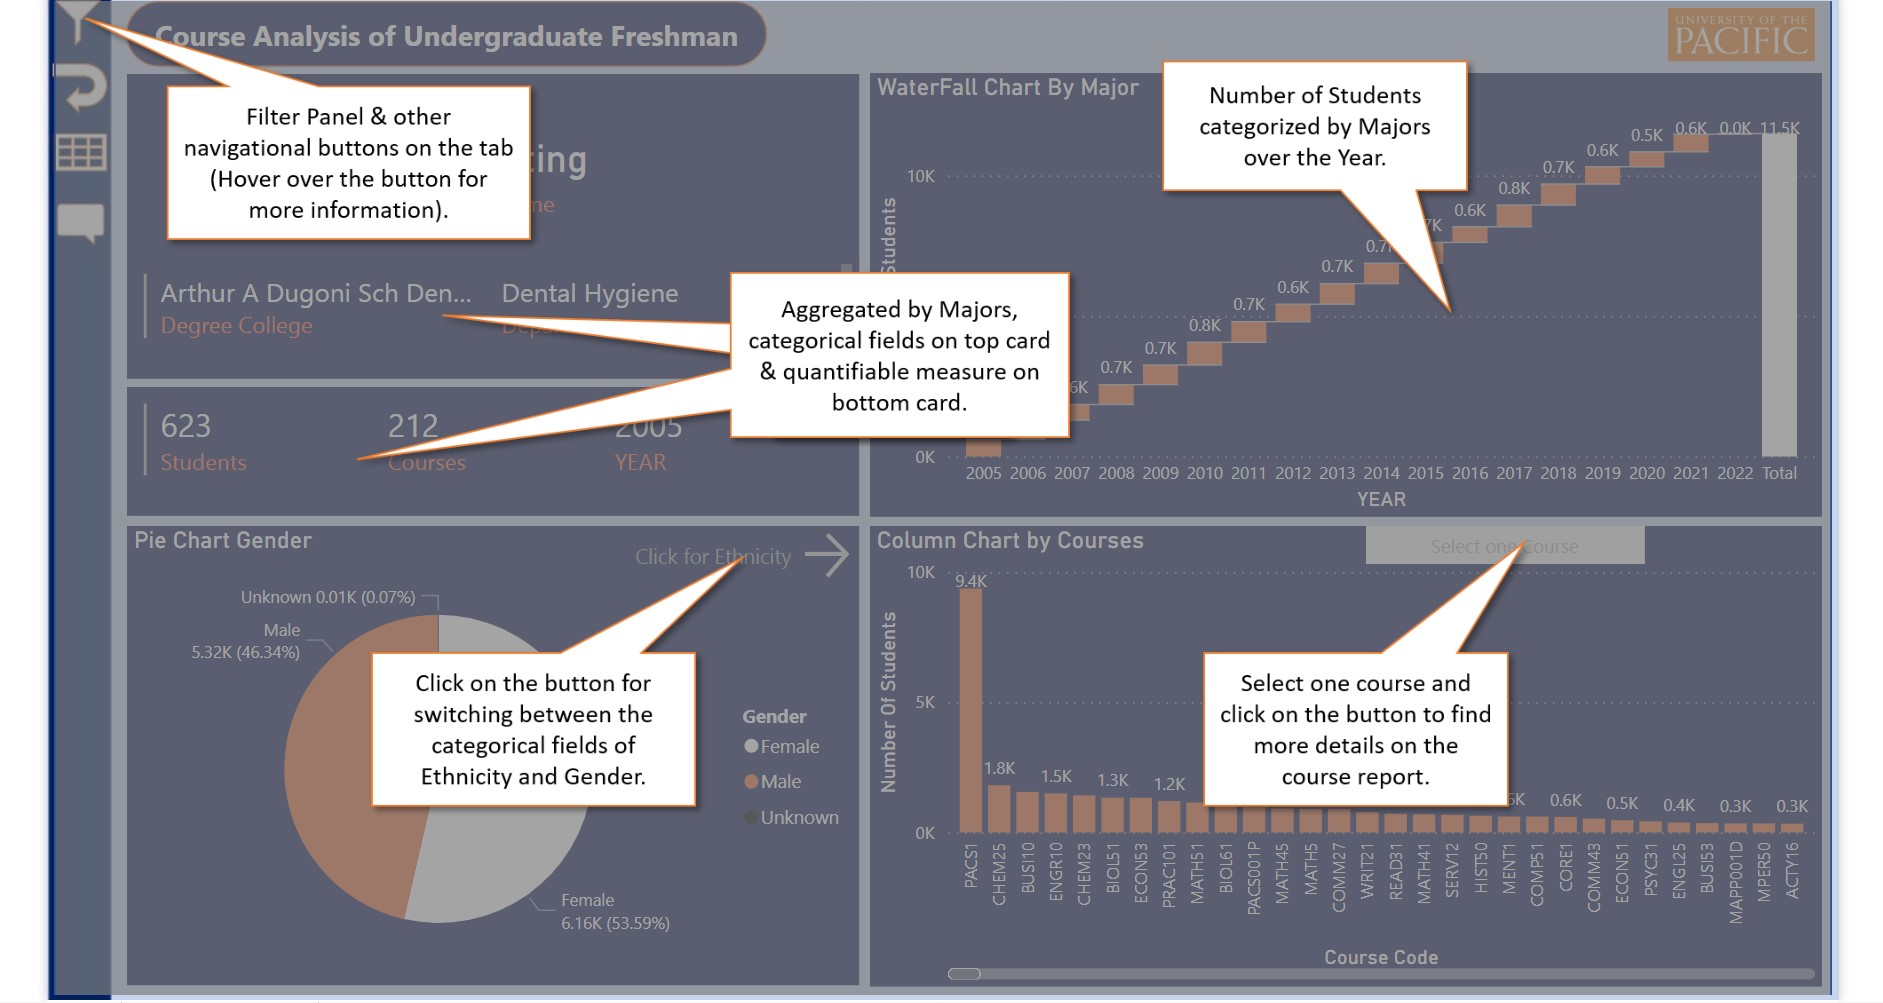

Layout of this report page (visuals, bound fields, positions):
{"tool":"powerbi","page":{"name":"Overview","canvas":[1280,720],"ordinal":0},"visuals":[{"type":"actionButton","title":"Slicer Overview Button","box":[0,0,47.1,45.3],"z":0},{"type":"pieChart","title":"Pie Chart Gender","fields":{"Category":["Student_Demographics.GENDER_DESC"],"Y":["Count(Student_Demographics.PIDM)"]},"box":[57,380.3,522.6,328],"z":0,"group":"g1"},{"type":"actionButton","title":"Matrix Button","box":[0,92.1,46.6,41.4],"z":1000},{"type":"actionButton","title":"Gender Button","box":[374.3,380.2,203.2,42.2],"z":1000,"group":"g1"},{"type":"columnChart","title":"Column Chart by Courses","fields":{"Y":["Count(Student_AcademicInfo.PIDM)"],"Category":["CourseCode-Title.CRSE_NAME_CODE"]},"box":[587.8,379.9,680.3,328.7],"z":2000},{"type":"card","title":"Major Name Card","fields":{"Values":["Min(Distinct Major.DEGREE_MAJOR)"]},"box":[56.8,56.8,522.9,138.5],"z":3000},{"type":"multiRowCard","title":"Degree&School","fields":{"Values":["Student_Demographics.DEGREE_COLLEGE_NAME","Student_Demographics.MAJOR_DEPARTMENT_DESC"]},"box":[56.8,188.2,522.9,87],"z":4000},{"type":"multiRowCard","title":"Statistics by Major","fields":{"Values":["Count(Student_AcademicInfo.PIDM)","StudentCount_Courses.CRSE_NAME_CODE","StudentCount_Courses.YEAR"]},"box":[63.9,281.4,515.8,91.4],"z":5000},{"type":"multiRowCard","title":"Statistics by Major check","fields":{"Values":["Count(Student_AcademicInfo.PIDM)","Student_AcademicInfo.CRSE_NAME_CODE","Student_AcademicInfo.YEAR"]},"box":[57,281,522.6,92.3],"z":6000},{"type":"waterfallChart","title":"WaterFall Chart By Major","fields":{"Category":["Student_AcademicInfo.YEAR"],"Y":["Count(Student_AcademicInfo.PIDM)"]},"box":[587.8,56.6,680.3,316.7],"z":7000},{"type":"group","id":"g1","title":"PieChart Gender","box":[57,380.2,522.6,328.1],"z":9000},{"type":"shape","title":"Project Title","box":[56.7,4.6,457.9,47.4],"z":10000},{"type":"image","box":[1152.7,0,115.4,57.7],"z":11000},{"type":"actionButton","title":"InfoPanel Button","box":[0,140.8,46.9,46.9],"z":12000},{"type":"actionButton","title":"OverviewPage Reset Button","box":[0,45.7,46.8,46.8],"z":13000},{"type":"actionButton","title":"DrillThrough Button","box":[942.4,380,198.6,27.2],"z":15000}]}

Visuals, with their boxes on the page's 1280x720 design canvas (x1, y1, x2, y2). These are canvas units, not pixel positions in the 1883x1003 screenshot, which may show the page scaled, cropped or inside an application window:
"Slicer Overview Button" actionButton: [left=0, top=0, right=47, bottom=45]
"Pie Chart Gender" pieChart: [left=57, top=380, right=580, bottom=708]
"Matrix Button" actionButton: [left=0, top=92, right=47, bottom=134]
"Gender Button" actionButton: [left=374, top=380, right=578, bottom=422]
"Column Chart by Courses" columnChart: [left=588, top=380, right=1268, bottom=709]
"Major Name Card" card: [left=57, top=57, right=580, bottom=195]
"Degree&School" multiRowCard: [left=57, top=188, right=580, bottom=275]
"Statistics by Major" multiRowCard: [left=64, top=281, right=580, bottom=373]
"Statistics by Major check" multiRowCard: [left=57, top=281, right=580, bottom=373]
"WaterFall Chart By Major" waterfallChart: [left=588, top=57, right=1268, bottom=373]
"PieChart Gender" group: [left=57, top=380, right=580, bottom=708]
"Project Title" shape: [left=57, top=5, right=515, bottom=52]
image: [left=1153, top=0, right=1268, bottom=58]
"InfoPanel Button" actionButton: [left=0, top=141, right=47, bottom=188]
"OverviewPage Reset Button" actionButton: [left=0, top=46, right=47, bottom=92]
"DrillThrough Button" actionButton: [left=942, top=380, right=1141, bottom=407]
